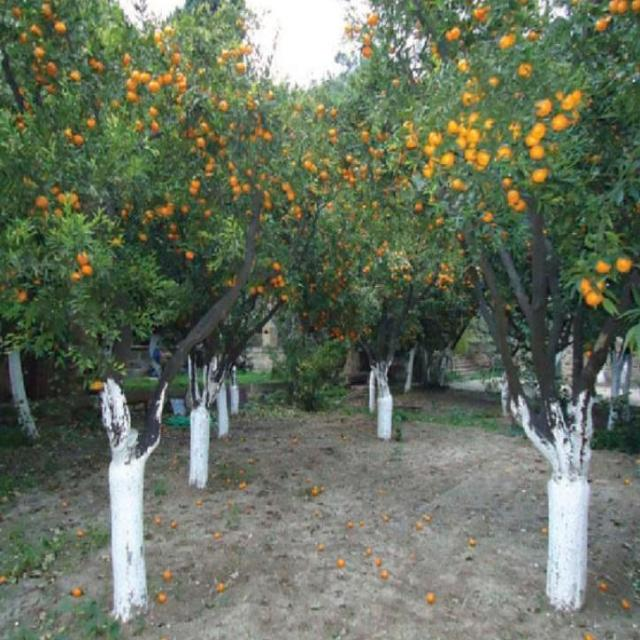row: (143, 394, 562, 640)
